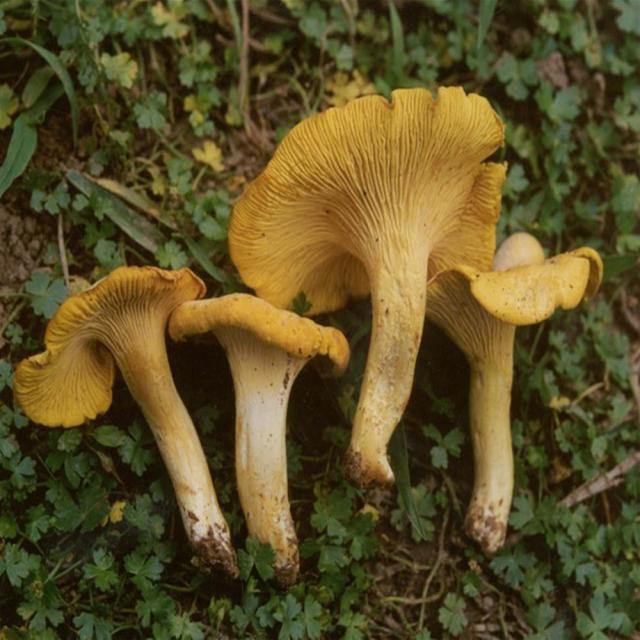Cantharellus cibarius: (232, 86, 506, 491), (16, 267, 211, 568), (418, 233, 603, 549), (170, 291, 347, 576)
